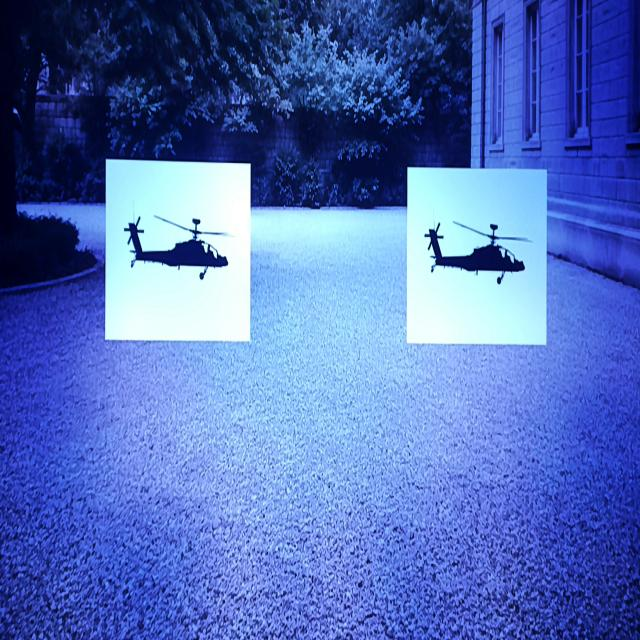Apache friendly: (425, 222, 531, 284), (125, 216, 228, 279)
